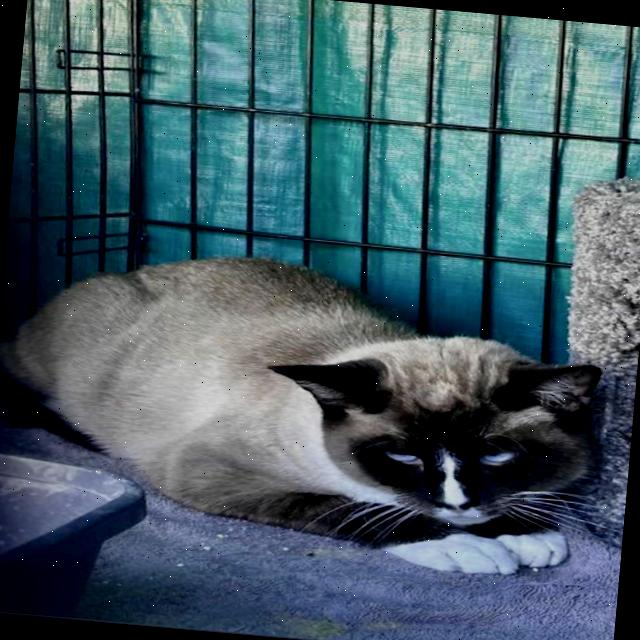siamese_cat: (228, 310, 617, 552)
